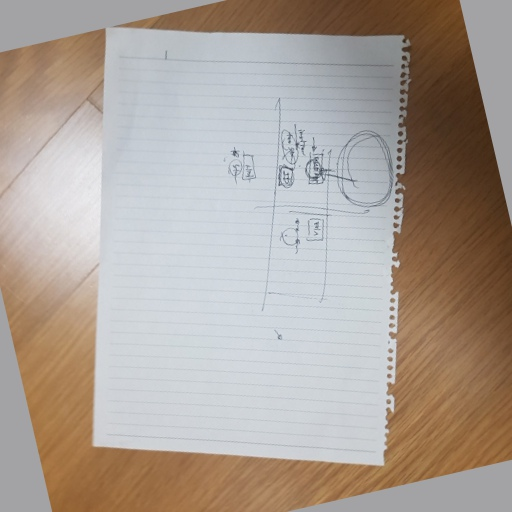Paper_2: (88, 15, 411, 478)
